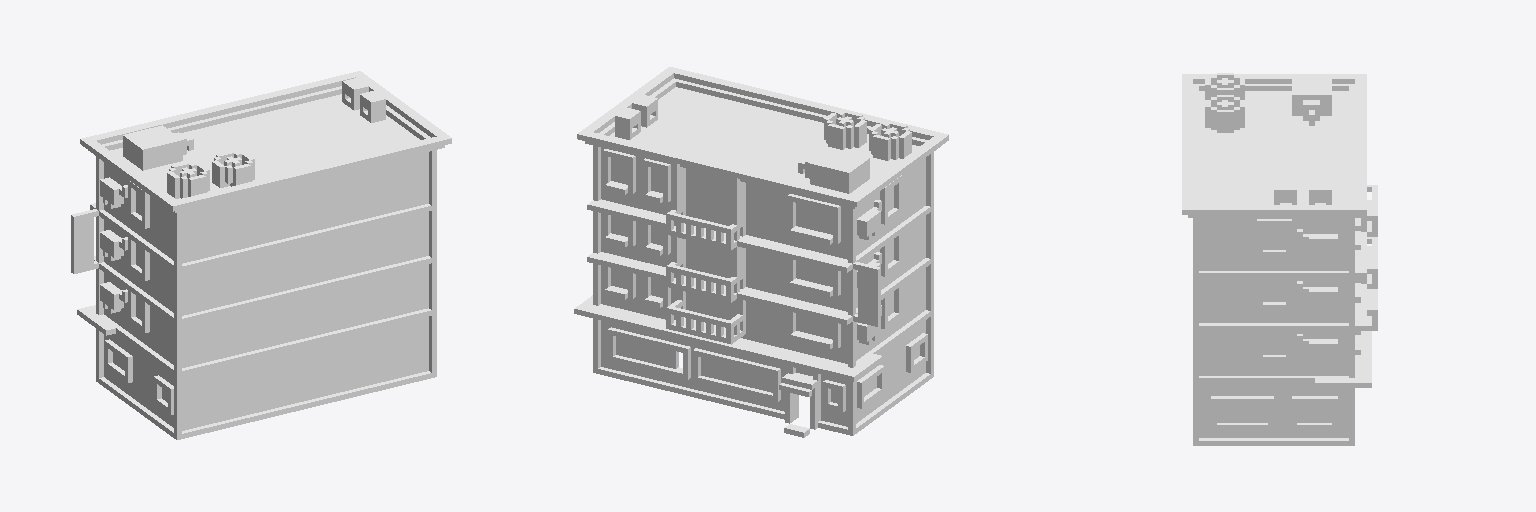
File: Apartment.obj
The picture shows the model from 3 angles: view 1: azimuth 30°, elevation 25°; view 2: azimuth 150°, elevation 25°; view 3: azimuth 270°, elevation 25°; orthographic projection.
Size of the model in its own units: 59 by 49 by 34.